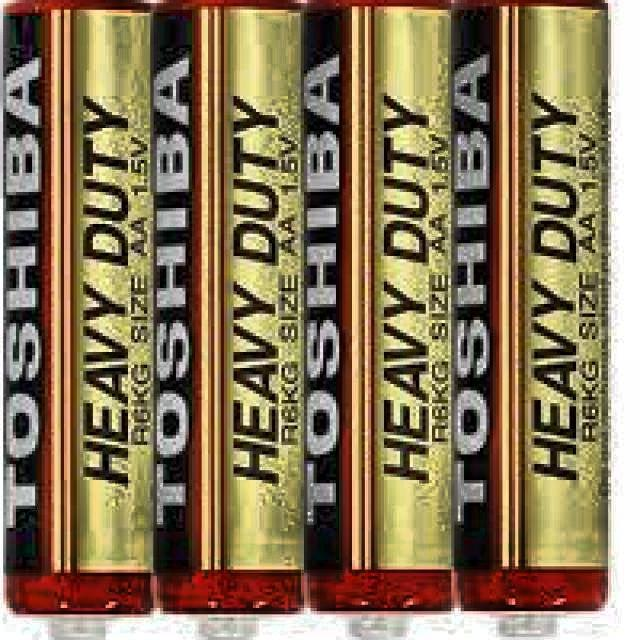battery: (449, 0, 608, 640), (151, 0, 308, 640), (303, 0, 453, 640)
